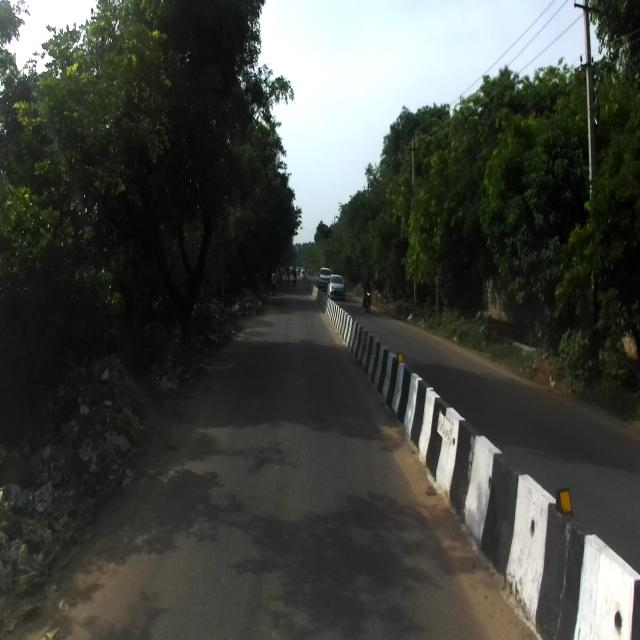stones ahead at: (0, 467, 62, 587)
